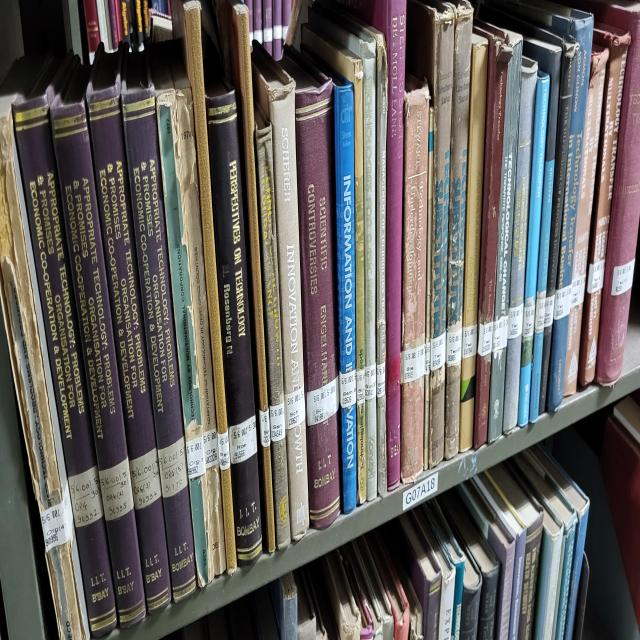Book: (14, 62, 116, 636), (51, 68, 145, 625), (0, 60, 90, 639), (86, 57, 171, 609), (121, 54, 196, 603), (171, 0, 238, 574), (169, 54, 226, 582), (155, 84, 211, 587), (206, 84, 262, 563), (309, 38, 366, 503), (255, 65, 310, 541), (229, 3, 275, 552), (530, 5, 592, 411), (355, 0, 406, 490), (288, 60, 340, 528), (328, 22, 378, 501), (580, 0, 640, 387), (406, 0, 455, 468), (579, 27, 630, 384), (254, 106, 290, 549), (564, 46, 609, 395), (474, 32, 511, 449), (524, 38, 561, 422), (540, 38, 576, 414), (502, 62, 538, 433), (360, 24, 388, 498), (489, 27, 521, 441), (444, 0, 472, 460), (400, 76, 430, 484), (459, 35, 488, 452), (518, 70, 550, 427), (334, 87, 358, 514), (424, 106, 435, 468)
Label: (69, 465, 104, 528), (41, 482, 72, 552), (99, 457, 134, 519), (130, 446, 161, 509), (158, 436, 188, 498), (306, 379, 338, 425), (229, 414, 258, 463), (401, 344, 425, 384), (285, 384, 305, 430), (186, 436, 206, 479), (611, 260, 635, 295), (339, 371, 356, 409), (204, 427, 219, 468), (269, 403, 285, 441), (430, 333, 446, 371), (446, 327, 462, 365), (554, 284, 571, 319), (588, 260, 605, 295), (462, 325, 478, 360), (478, 322, 494, 357), (492, 317, 508, 352), (508, 303, 524, 338), (570, 273, 586, 308), (386, 357, 400, 395), (522, 300, 535, 338), (218, 430, 230, 471), (535, 292, 546, 333), (259, 409, 271, 446), (365, 363, 376, 400), (544, 295, 555, 327), (356, 368, 365, 403), (376, 363, 385, 398), (425, 341, 431, 376)
